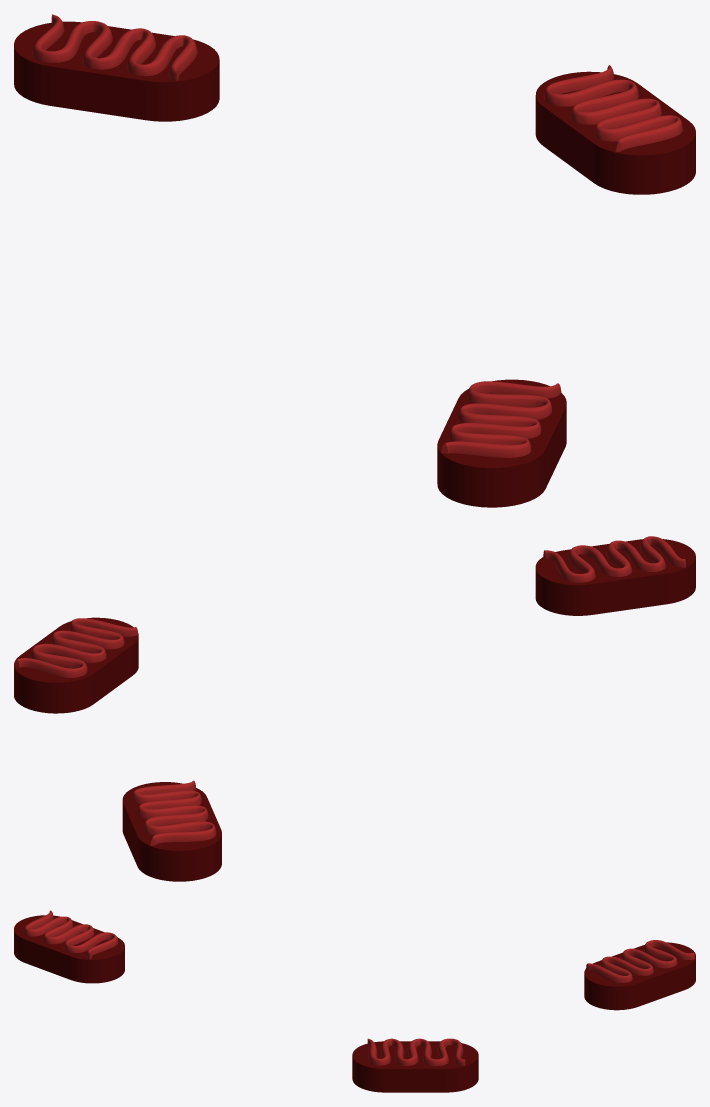
Rendered from mitochondriaFBX.fbx.
The picture shows the model from 3 angles, top to bottom: view 1: azimuth 30°, elevation 25°; view 2: azimuth 150°, elevation 25°; view 3: azimuth 270°, elevation 25°; orthographic projection. The views are drawn at different scales.
Visible parts, largest first — view 1: polySurface4, polySurface1, polySurface3; view 2: polySurface3, polySurface1, polySurface4; view 3: polySurface1, polySurface4, polySurface3.
Part boxes in pixels (<box>): polySurface4: <box>14,14,219,121</box>; polySurface1: <box>535,65,695,194</box>; polySurface3: <box>437,379,566,507</box>; polySurface3: <box>535,536,695,615</box>; polySurface1: <box>14,617,138,713</box>; polySurface4: <box>122,780,221,881</box>; polySurface1: <box>352,1038,478,1092</box>; polySurface4: <box>584,940,695,1010</box>; polySurface3: <box>14,910,124,983</box>.
Bounding box in the file's own units: 55.44 × 4.95 × 104.
